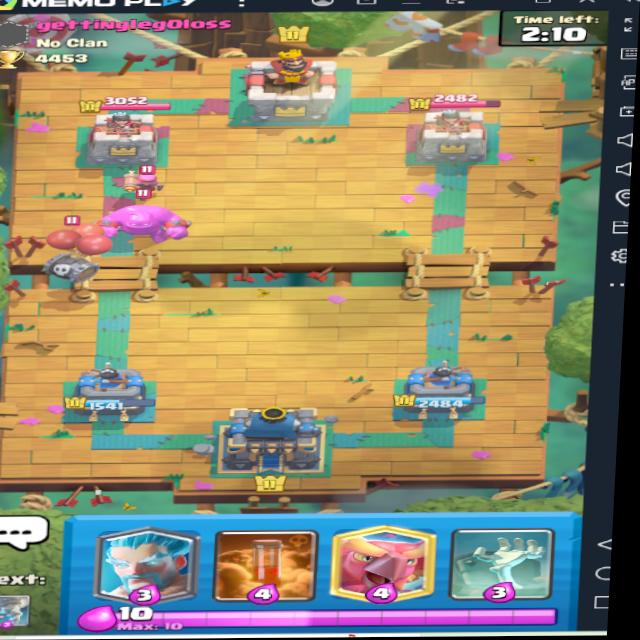electro-golem: (71, 187, 201, 248)
firecracker: (114, 158, 171, 195)
skeleton-barrel: (29, 210, 110, 289)
